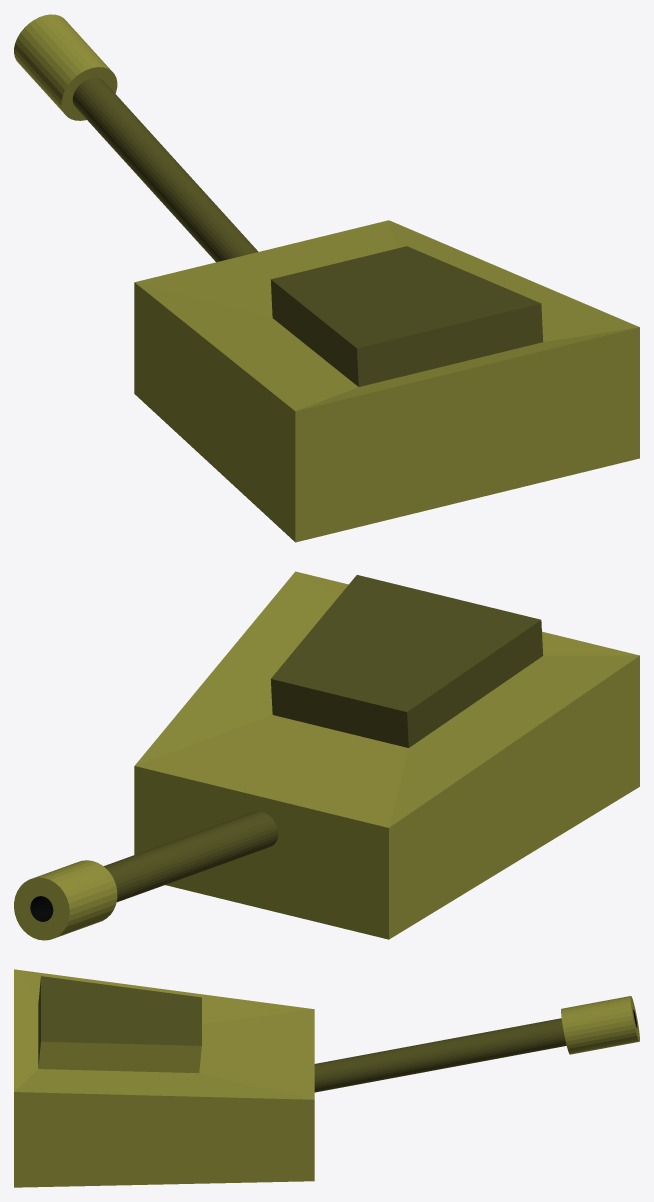
File: War Tank Cannon.fbx
3 renders of one model, top to bottom at view 1: azimuth 30°, elevation 25°; view 2: azimuth 150°, elevation 25°; view 3: azimuth 270°, elevation 25°, orthographic. The views are drawn at different scales.
Visible parts, largest first — view 1: Cube.001; view 2: Cube.001; view 3: Cube.001.
Boxes of the visible parts, x1,y1,x2,y2 form: Cube.001: (14, 14, 639, 542); Cube.001: (14, 571, 639, 940); Cube.001: (14, 969, 639, 1187).
Bounding box in the file's own units: 339 × 178 × 731.
